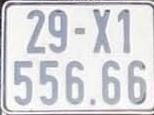-: (73, 27, 87, 36)
.: (90, 98, 96, 105)
1: (117, 9, 131, 54)
2: (25, 9, 46, 54)
5: (11, 59, 33, 105), (37, 60, 60, 104)
6: (125, 60, 148, 105), (100, 59, 121, 104), (66, 61, 86, 103)
9: (47, 10, 68, 55)
X: (93, 7, 113, 54)
